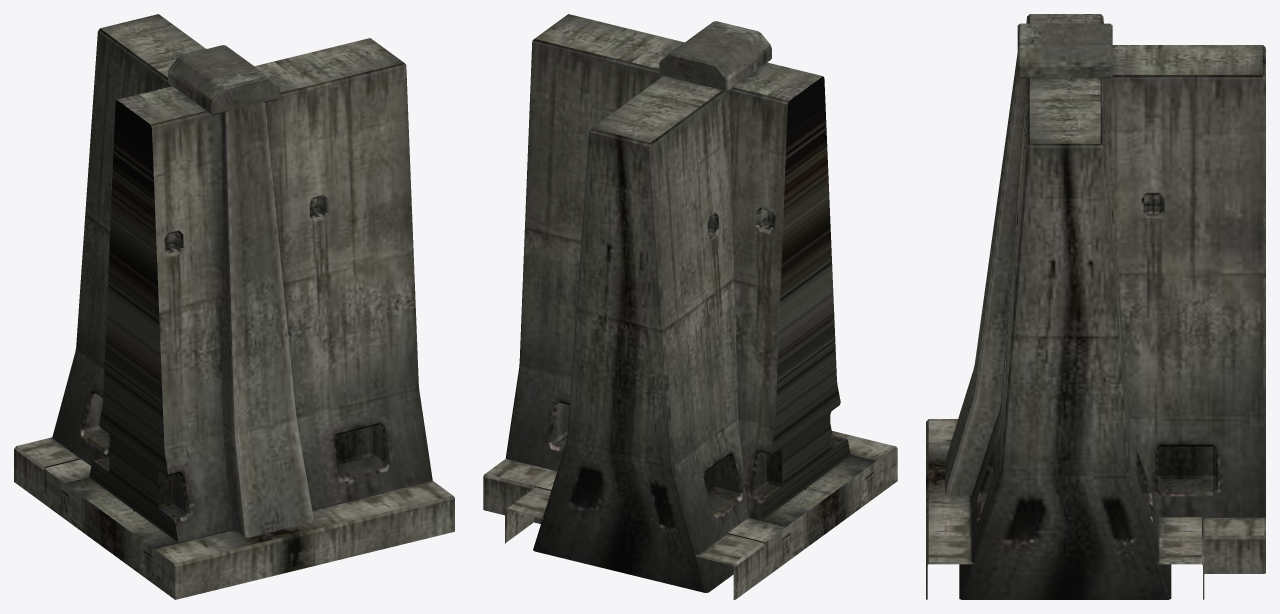
The model's file is stone-wall-ne.glb.
The picture shows the model from 3 angles, left to right: view 1: azimuth 30°, elevation 25°; view 2: azimuth 150°, elevation 25°; view 3: azimuth 270°, elevation 25°; orthographic projection. The views are drawn at different scales.
Visible parts, largest first — view 1: body; view 2: body; view 3: body.
Part boxes in pixels (<box>): body: <box>14,14,454,599</box>; body: <box>483,14,897,599</box>; body: <box>926,14,1265,599</box>.
Bounding box in the file's own units: 0.8466 × 1.32 × 0.8466.
1 material, 1 textured.
